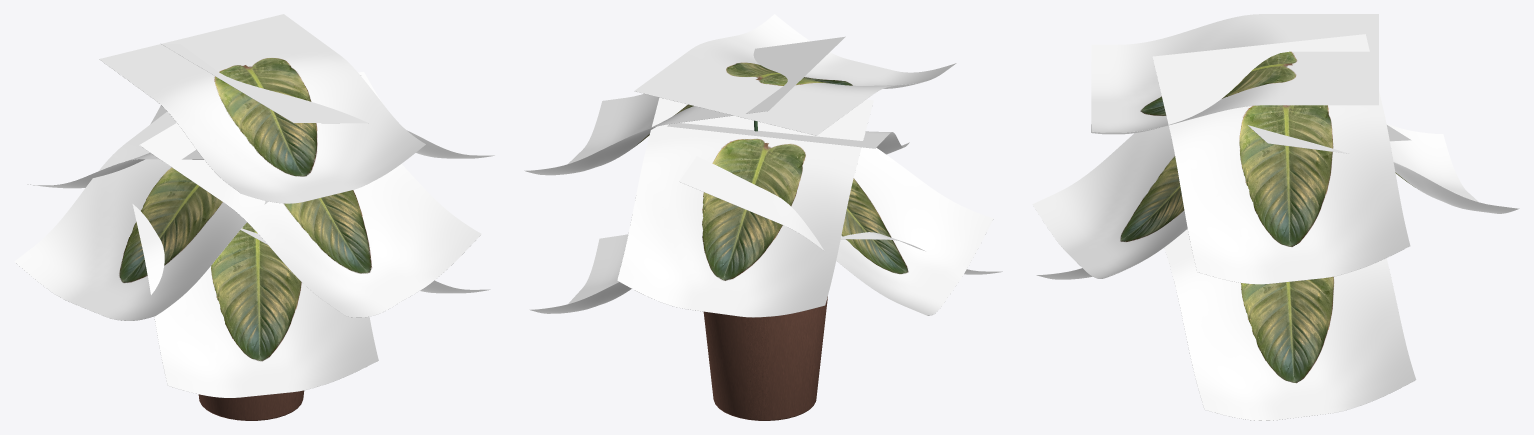
Rendered from Kanyou.fbx.
3 renders of one model, left to right at view 1: azimuth 30°, elevation 25°; view 2: azimuth 150°, elevation 25°; view 3: azimuth 270°, elevation 25°, orthographic. The views are drawn at different scales.
Parts seen in each view (by area): view 1: leaf, leaf.005, leaf.003, leaf.004, leaf.002, uekibachi, leaf.001, leaf.006; view 2: leaf.001, leaf.004, leaf, uekibachi, leaf.002, leaf.006, leaf.003, leaf.005; view 3: leaf.002, leaf.006, leaf, leaf.003, leaf.001.
Boxes of the visible parts, box(x1,y1,x2,y2) form: leaf: box(99, 14, 425, 203); leaf.005: box(132, 204, 378, 397); leaf.003: box(139, 123, 481, 317); leaf.004: box(14, 111, 268, 320); leaf.002: box(161, 43, 495, 158); uekibachi: box(198, 390, 304, 420); leaf.001: box(27, 75, 361, 188); leaf.006: box(240, 228, 490, 293); leaf.001: box(617, 97, 873, 317); leaf.004: box(679, 147, 993, 315); leaf: box(634, 14, 956, 135); uekibachi: box(703, 296, 827, 420); leaf.002: box(524, 36, 845, 175); leaf.006: box(529, 234, 631, 313); leaf.003: box(667, 123, 909, 154); leaf.005: box(841, 232, 1002, 274); leaf.002: box(1152, 34, 1410, 284); leaf.006: box(1164, 229, 1416, 420); leaf: box(1091, 14, 1378, 134); leaf.003: box(1032, 125, 1187, 278); leaf.001: box(1247, 124, 1519, 213).
Size of the model in its own units: 164 by 130 by 169.
